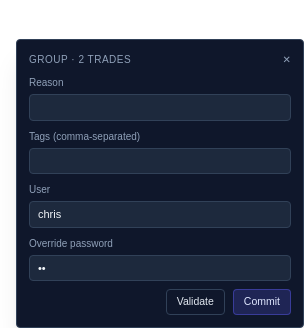
it: OverrideCommitPopover › disables Commit when a validation error is present
(page scrolled)
Click the button "Validate". click: (195, 302)
box: 166,289 -> 225,315
(page scrolled)
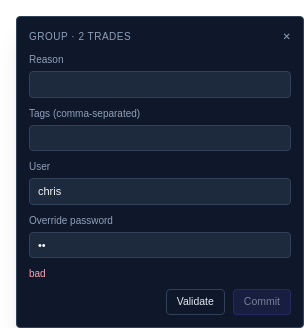
Expected: the list item "bad" is shown, 29,268 -> 46,279
Expected: the button "Commit" is disabled, 233,289 -> 291,315
